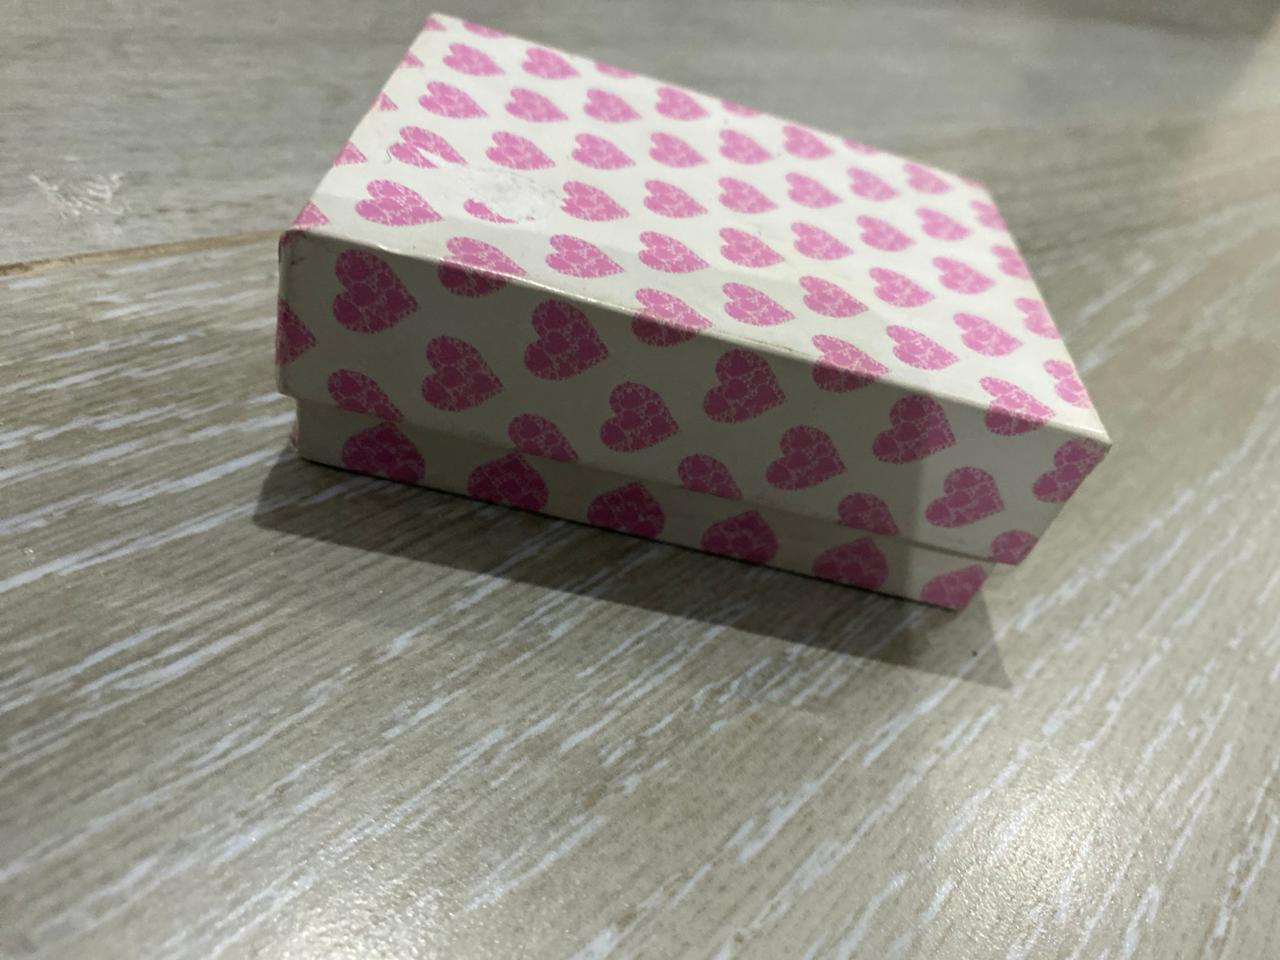Pink Box: (262, 8, 1120, 626)
